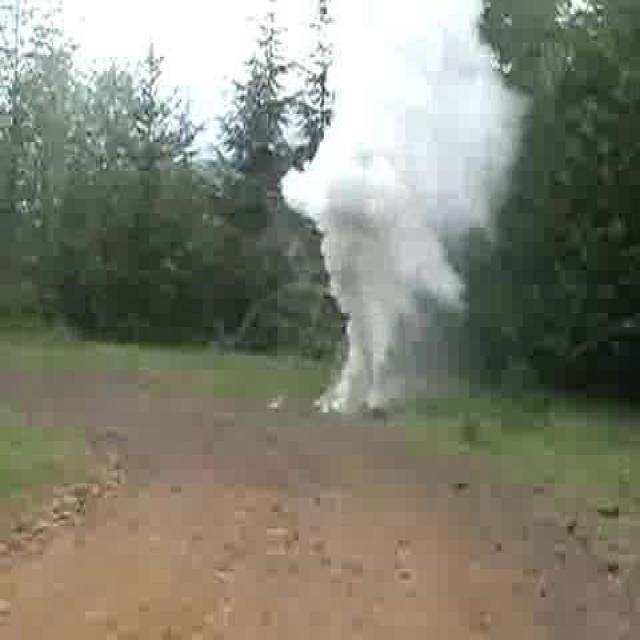Smoke: (285, 0, 527, 416)
